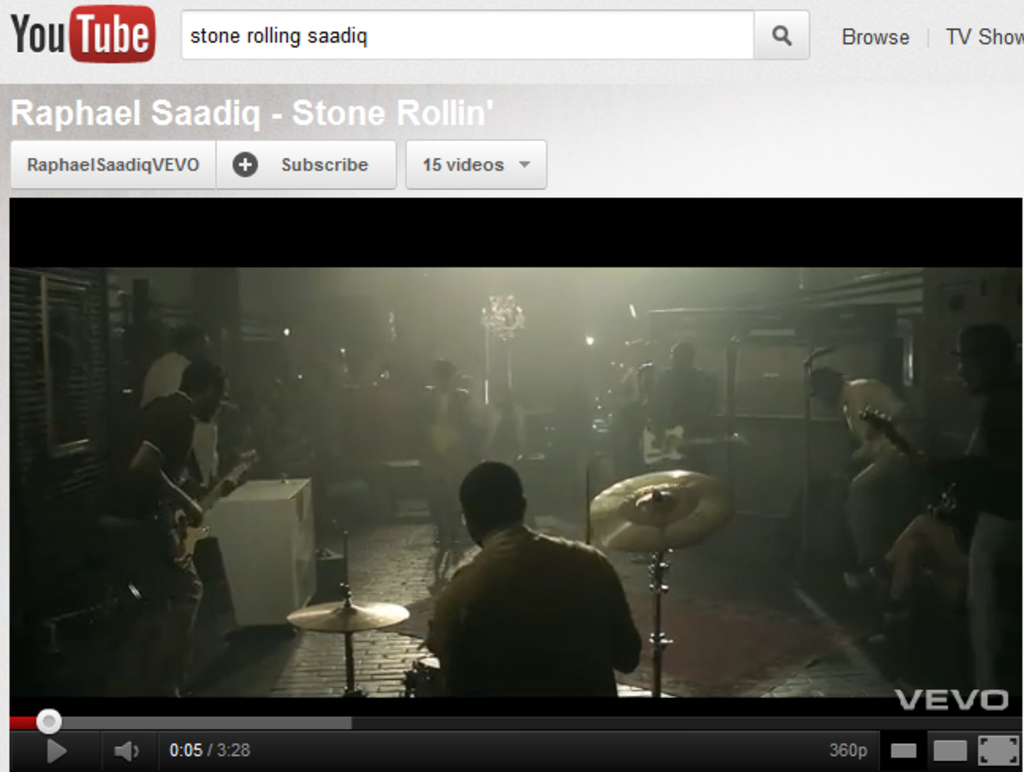Person: (89, 325, 1018, 697)
